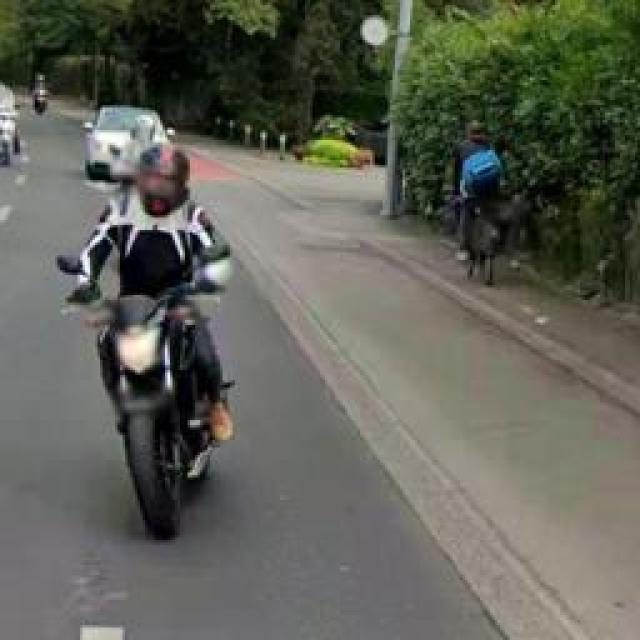motorcycle: (75, 282, 220, 540)
